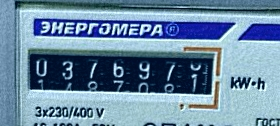0: (33, 56, 49, 77)
1: (189, 72, 200, 93)
3: (60, 58, 74, 81)
6: (112, 57, 125, 78)
7: (86, 56, 99, 80), (163, 59, 176, 82)
9: (137, 58, 150, 80)
screen: (21, 42, 224, 112)
